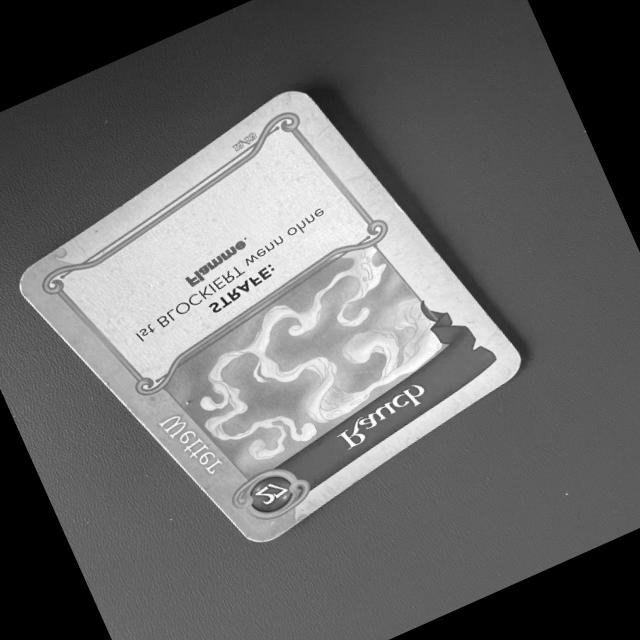Smoke: (2, 76, 534, 564)
